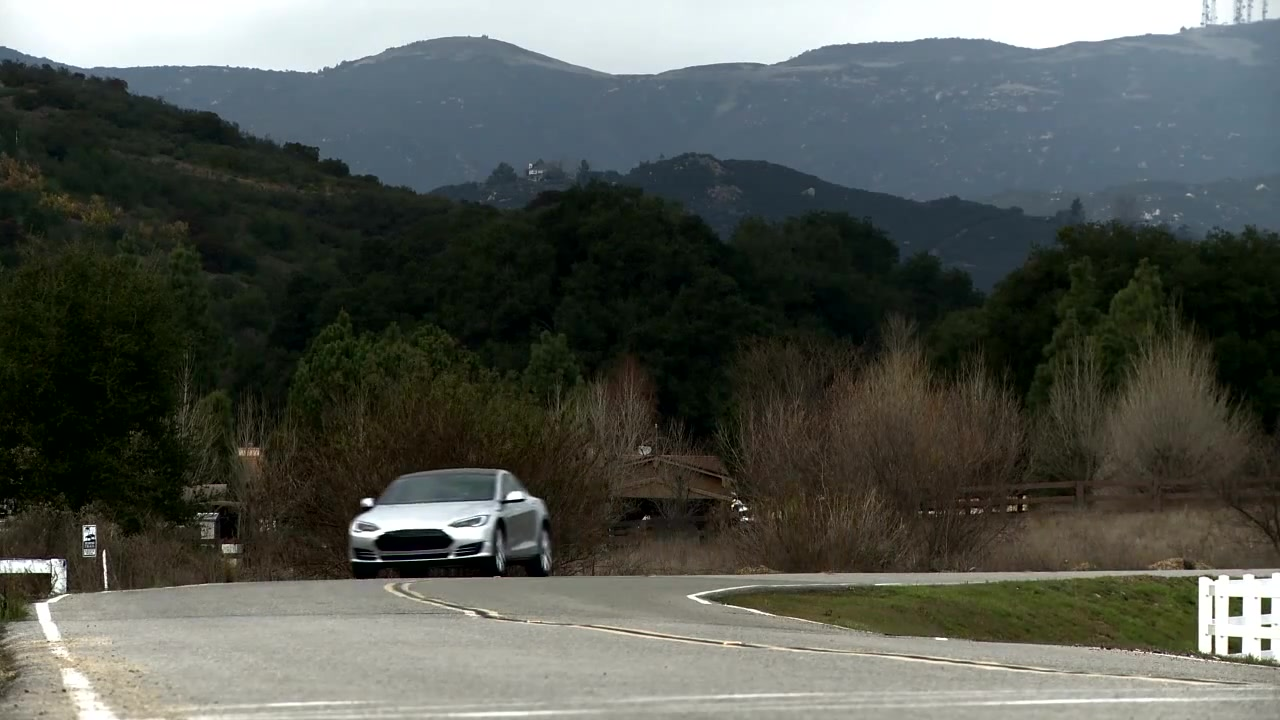car: (341, 465, 557, 581)
